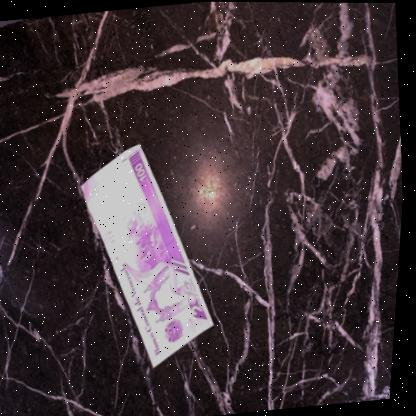one_hundred-back-vef: (68, 136, 232, 375)
